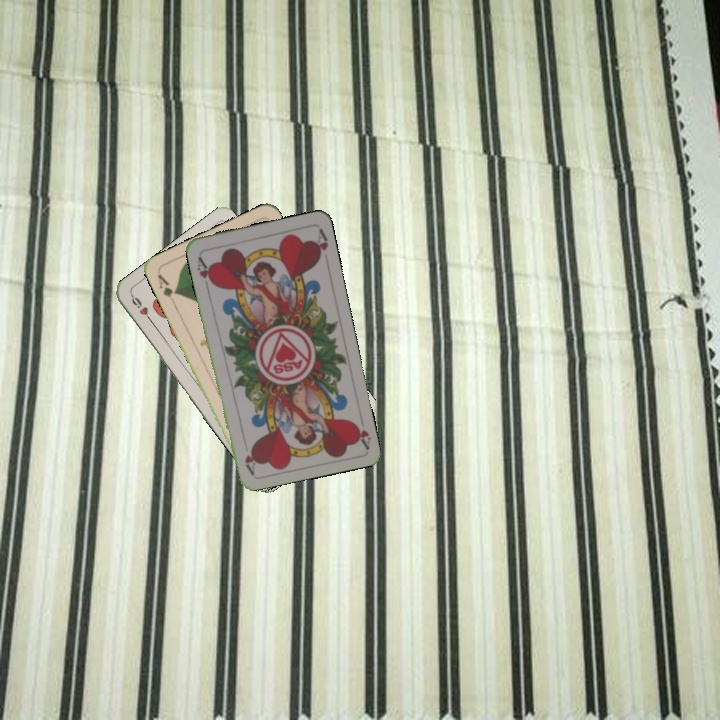GA: (153, 270, 180, 300)
H9: (127, 291, 156, 326)
HA: (193, 252, 217, 291), (350, 410, 373, 450)
